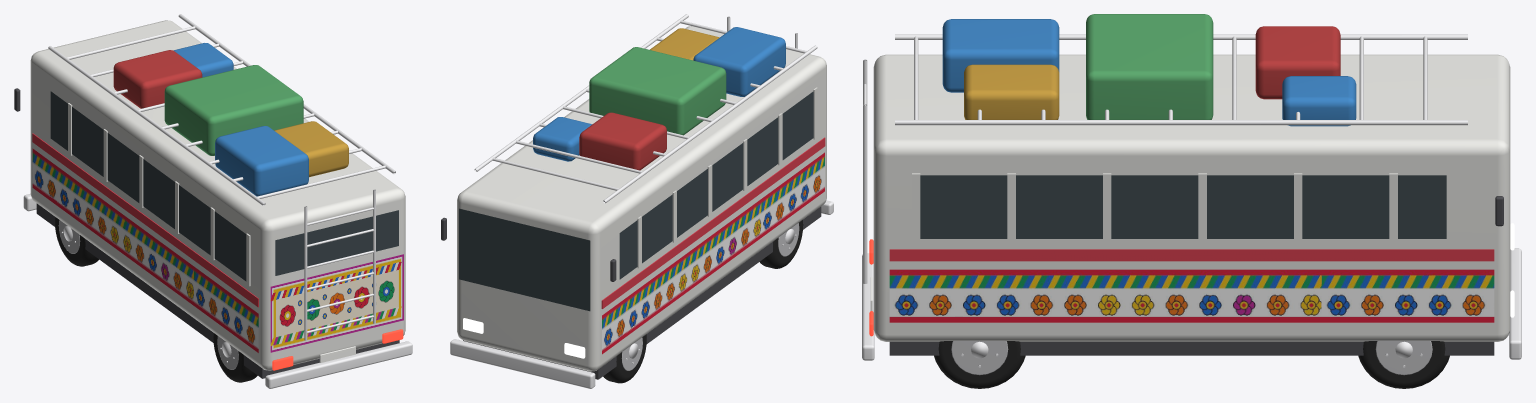
Rendered from bus.glb.
The picture shows the model from 3 angles, left to right: view 1: azimuth 30°, elevation 25°; view 2: azimuth 150°, elevation 25°; view 3: azimuth 270°, elevation 25°; orthographic projection. The views are drawn at different scales.
Visible parts, largest first — view 1: BusBody, Wheel2, Wheel0; view 2: BusBody, Wheel0, Wheel2; view 3: BusBody, Wheel1, Wheel3.
Part boxes in pixels (x1=…): BusBody: x1=14, y1=14, x2=412, y2=388; Wheel2: x1=213, y1=333, x2=257, y2=382; Wheel0: x1=55, y1=217, x2=98, y2=266; BusBody: x1=441, y1=14, x2=833, y2=388; Wheel0: x1=603, y1=334, x2=646, y2=383; Wheel2: x1=760, y1=220, x2=803, y2=268; BusBody: x1=862, y1=14, x2=1521, y2=360; Wheel1: x1=1358, y1=340, x2=1449, y2=388; Wheel3: x1=934, y1=340, x2=1025, y2=388.
Size of the model in its own units: 2.56 by 3.17 by 6.22.
16 materials, 2 textured.
